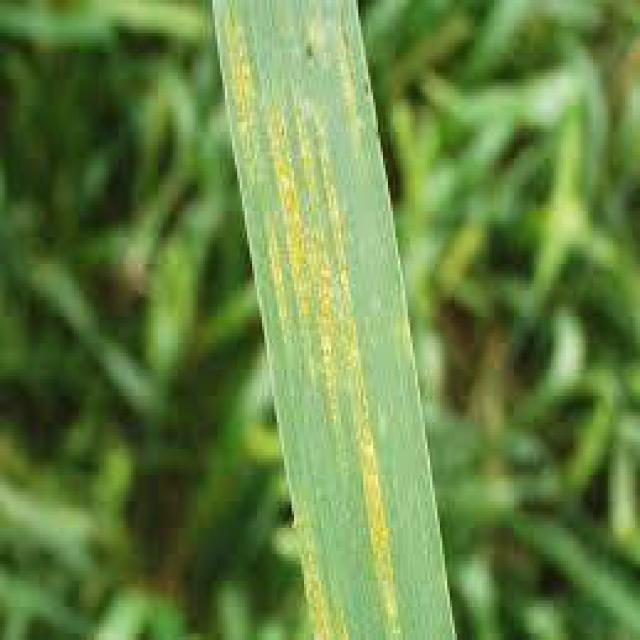Yellow_Rust: (215, 2, 456, 637)
